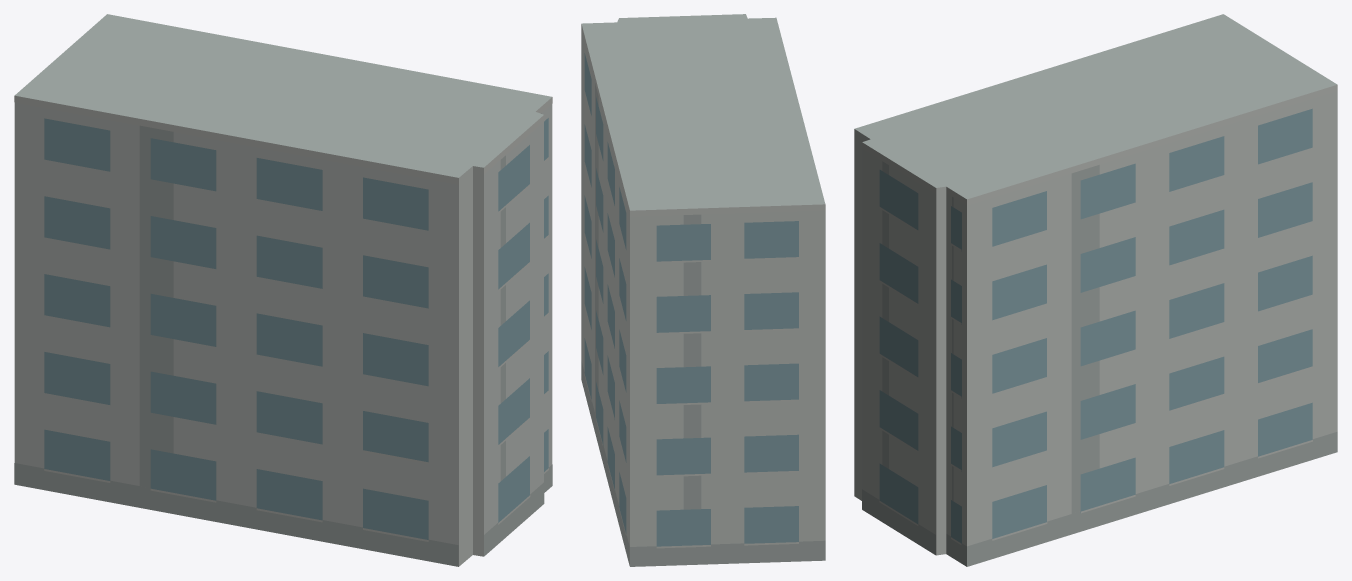
The model's file is survey-upis-32893967.glb.
3 views of the same model, side by side, from view 1: azimuth 30°, elevation 25°; view 2: azimuth 150°, elevation 25°; view 3: azimuth 270°, elevation 25° (orthographic). The views are drawn at different scales.
Parts seen in each view (by area): view 1: survey-upis-32893967.tmp; view 2: survey-upis-32893967.tmp; view 3: survey-upis-32893967.tmp.
Boxes of the visible parts, <box> form: survey-upis-32893967.tmp: <box>14,14,552,566</box>; survey-upis-32893967.tmp: <box>581,14,825,566</box>; survey-upis-32893967.tmp: <box>854,14,1337,566</box>.
Bounding box in the file's own units: 15.16 × 14 × 16.7.
